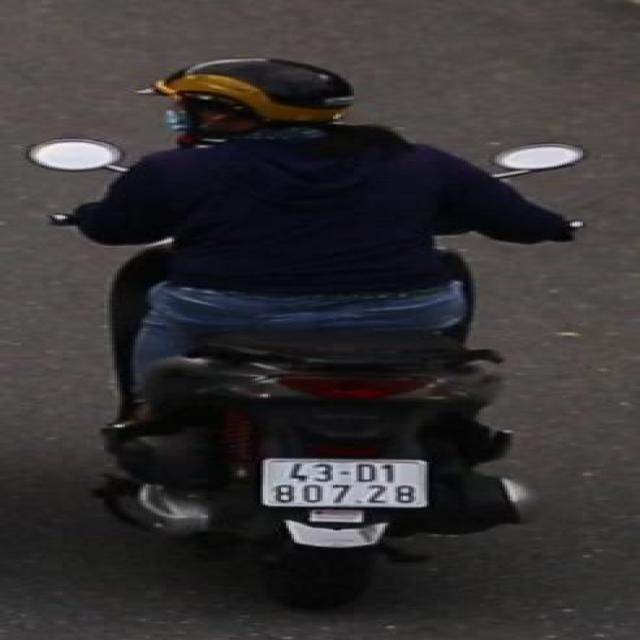LP: (252, 454, 437, 514)
helmet: (151, 51, 364, 138)
